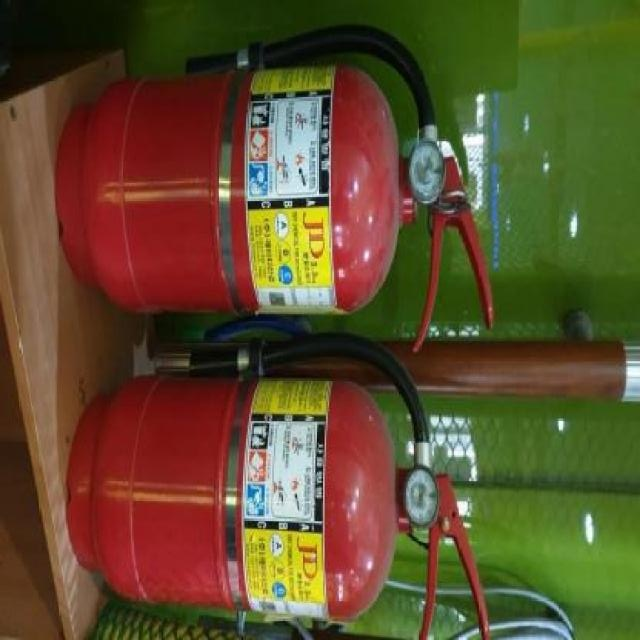fire extinguisher: (54, 23, 494, 352), (65, 327, 490, 640)
